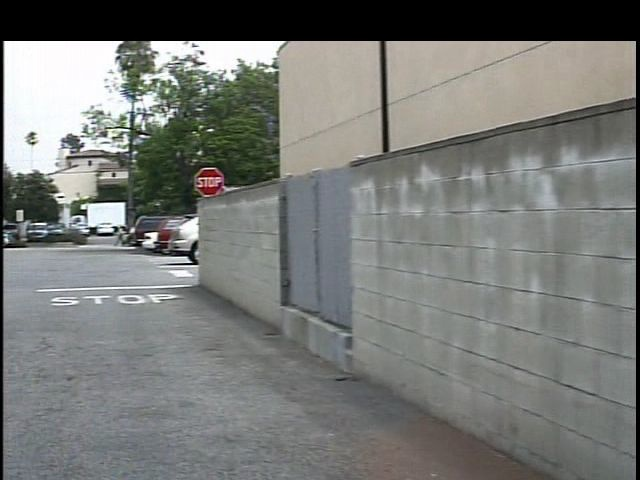person: (102, 225, 116, 251)
